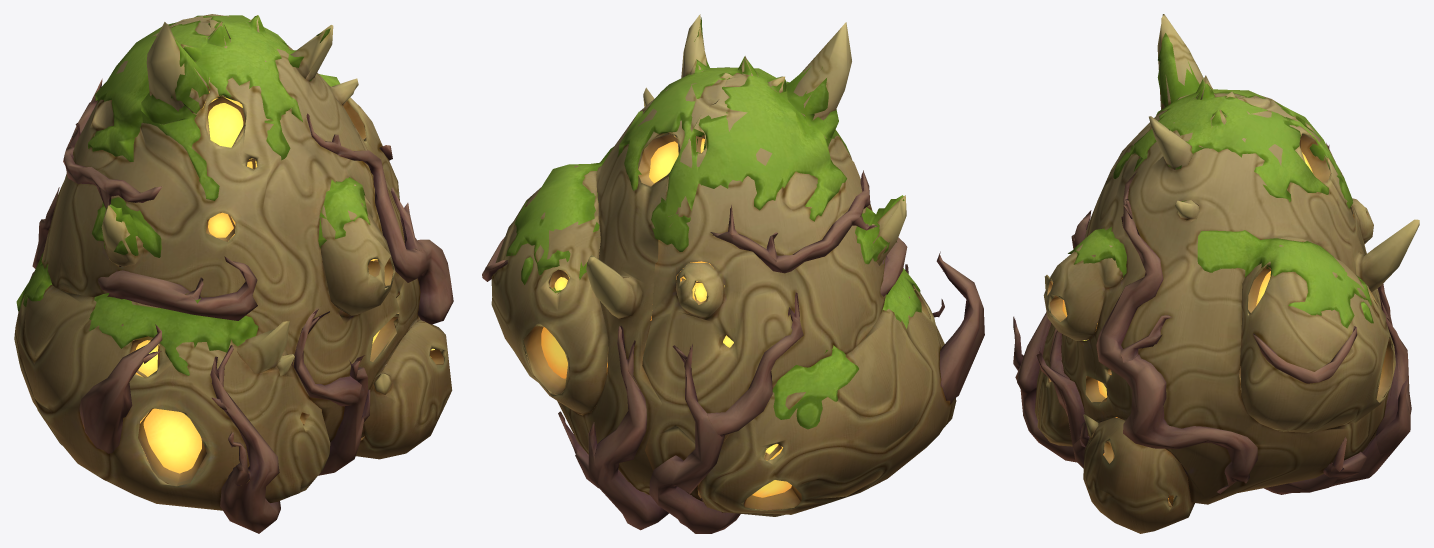
File: bog_giant_acorn_lite.glb
3 renders of one model, left to right at view 1: azimuth 30°, elevation 25°; view 2: azimuth 150°, elevation 25°; view 3: azimuth 270°, elevation 25°, orthographic. The views are drawn at different scales.
Parts seen in each view (by area): view 1: SM_XBOG_HRO_GiantAcorn_01; view 2: SM_XBOG_HRO_GiantAcorn_01; view 3: SM_XBOG_HRO_GiantAcorn_01.
Boxes of the visible parts, x1,y1,x2,y2 form: SM_XBOG_HRO_GiantAcorn_01: [14, 14, 453, 533]; SM_XBOG_HRO_GiantAcorn_01: [482, 14, 984, 533]; SM_XBOG_HRO_GiantAcorn_01: [1013, 14, 1419, 533].
Size of the model in its own units: 26.42 by 30.89 by 26.31.
2 materials, 2 textured.
